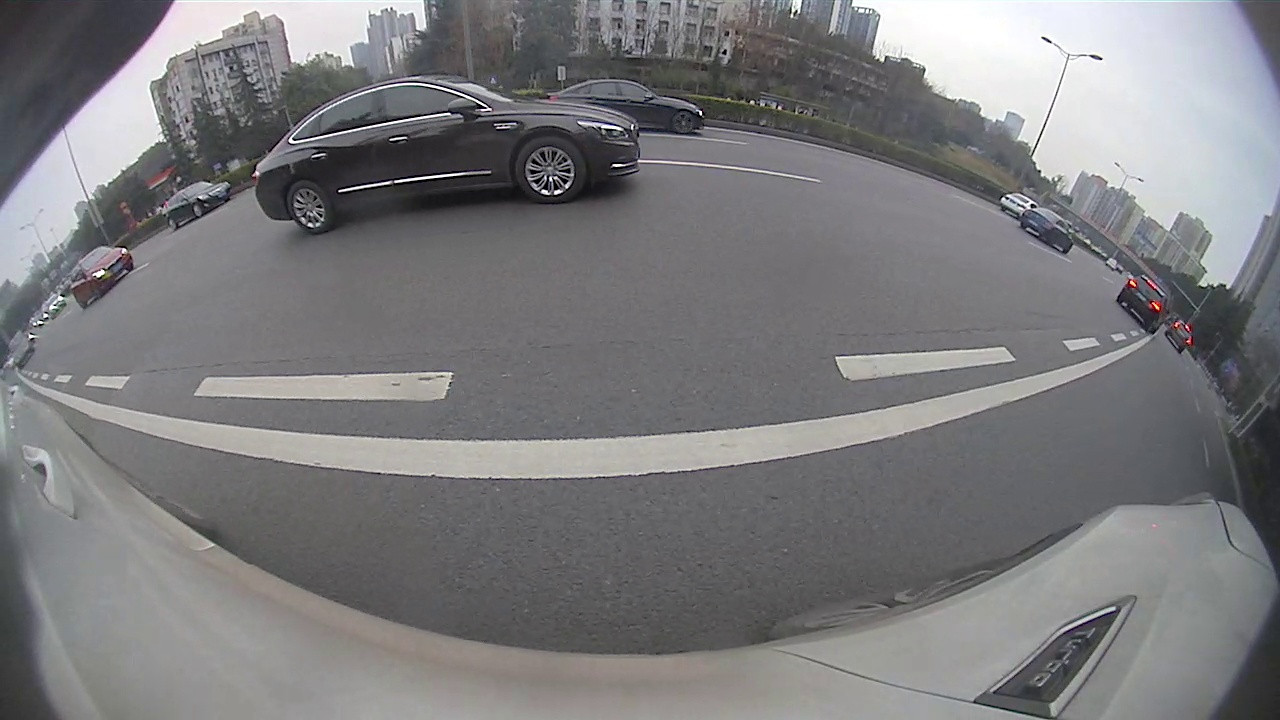car: (253, 78, 641, 237), (548, 81, 703, 137), (70, 248, 133, 307), (162, 180, 233, 228), (1117, 274, 1167, 330), (1022, 206, 1073, 253), (1001, 191, 1043, 222)
front: (512, 133, 590, 207), (669, 108, 695, 137), (191, 202, 205, 218)
rear: (286, 179, 336, 236), (167, 218, 180, 231)
